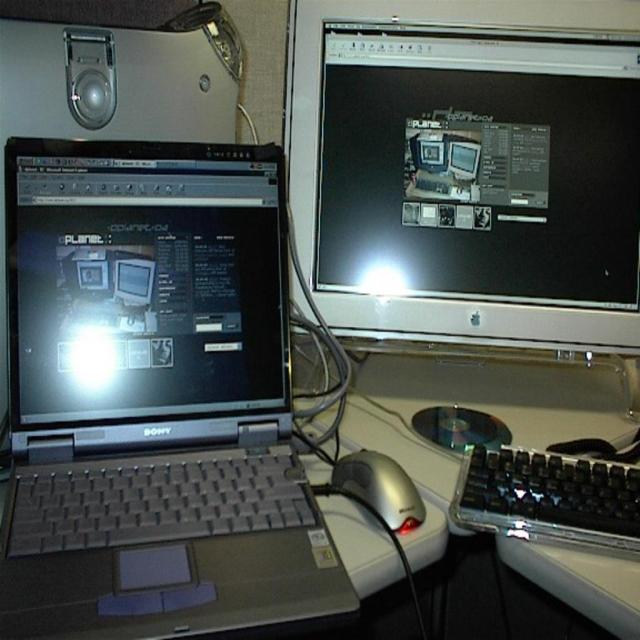keyboard: (456, 439, 640, 535)
laptop: (14, 142, 298, 639)
mouse: (330, 446, 428, 532)
